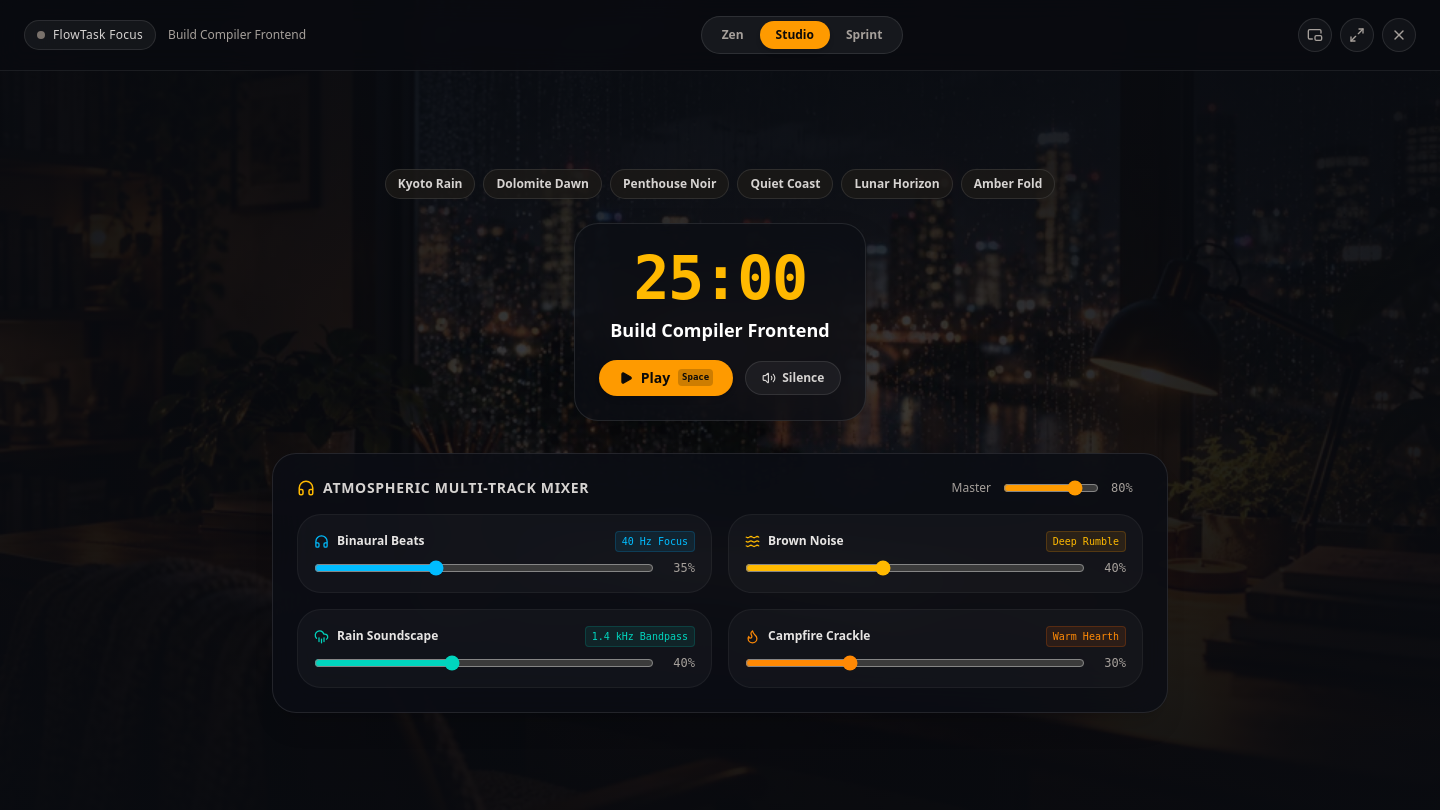
FocusEngineModal (Milestone 3 Comprehensive Suite) › 3. Lo-Fi Studio Audio Mixer › 3.2 toggles audio mute on silence button click
Click the button with aria-label "mute atmosphere": x=793, y=378 top-left (745, 360), bottom-right (841, 394)
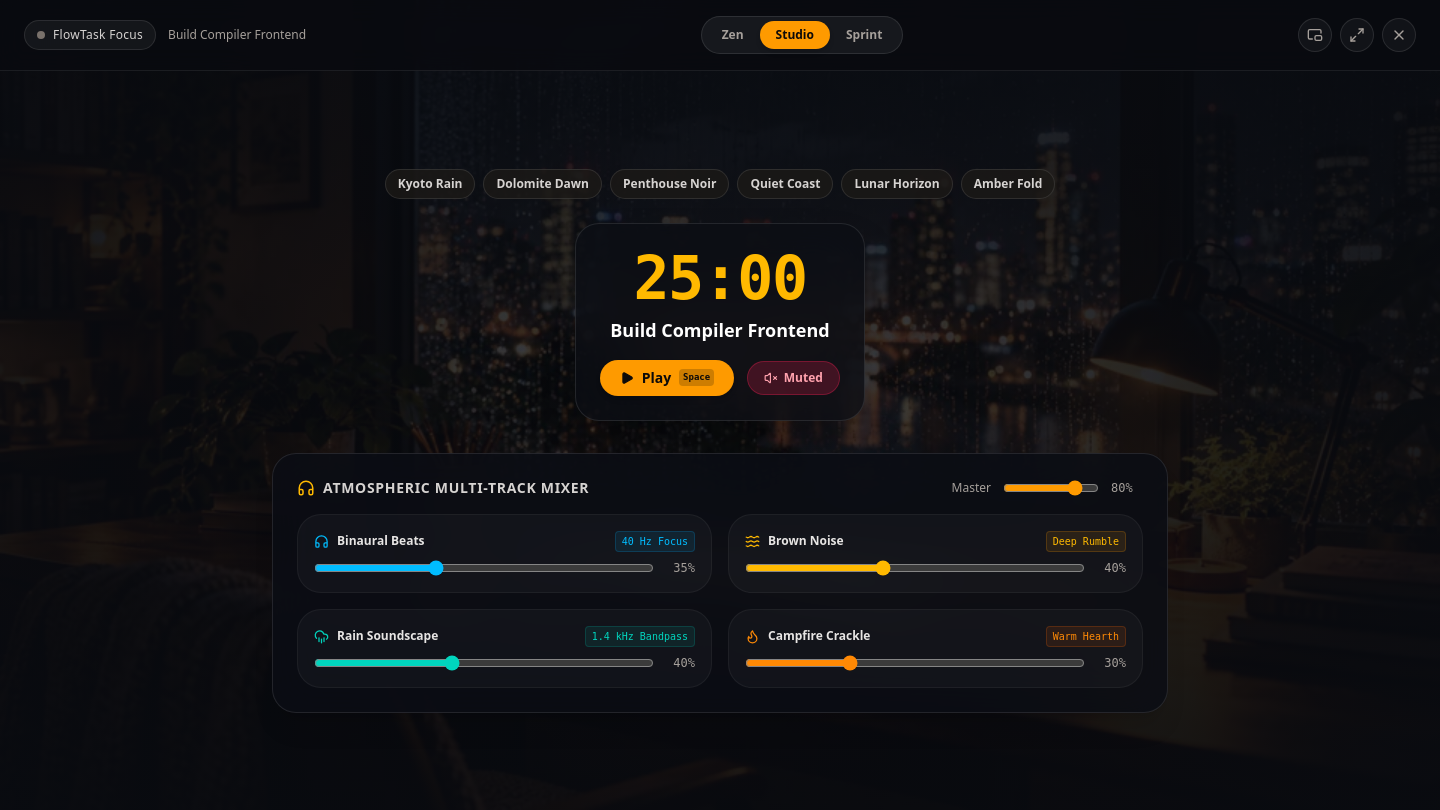
Check: the text "Muted" is shown, box top-left (784, 370), bottom-right (823, 386)
Click the button with aria-label "unmute atmosphere": x=793, y=378 top-left (747, 360), bottom-right (840, 394)
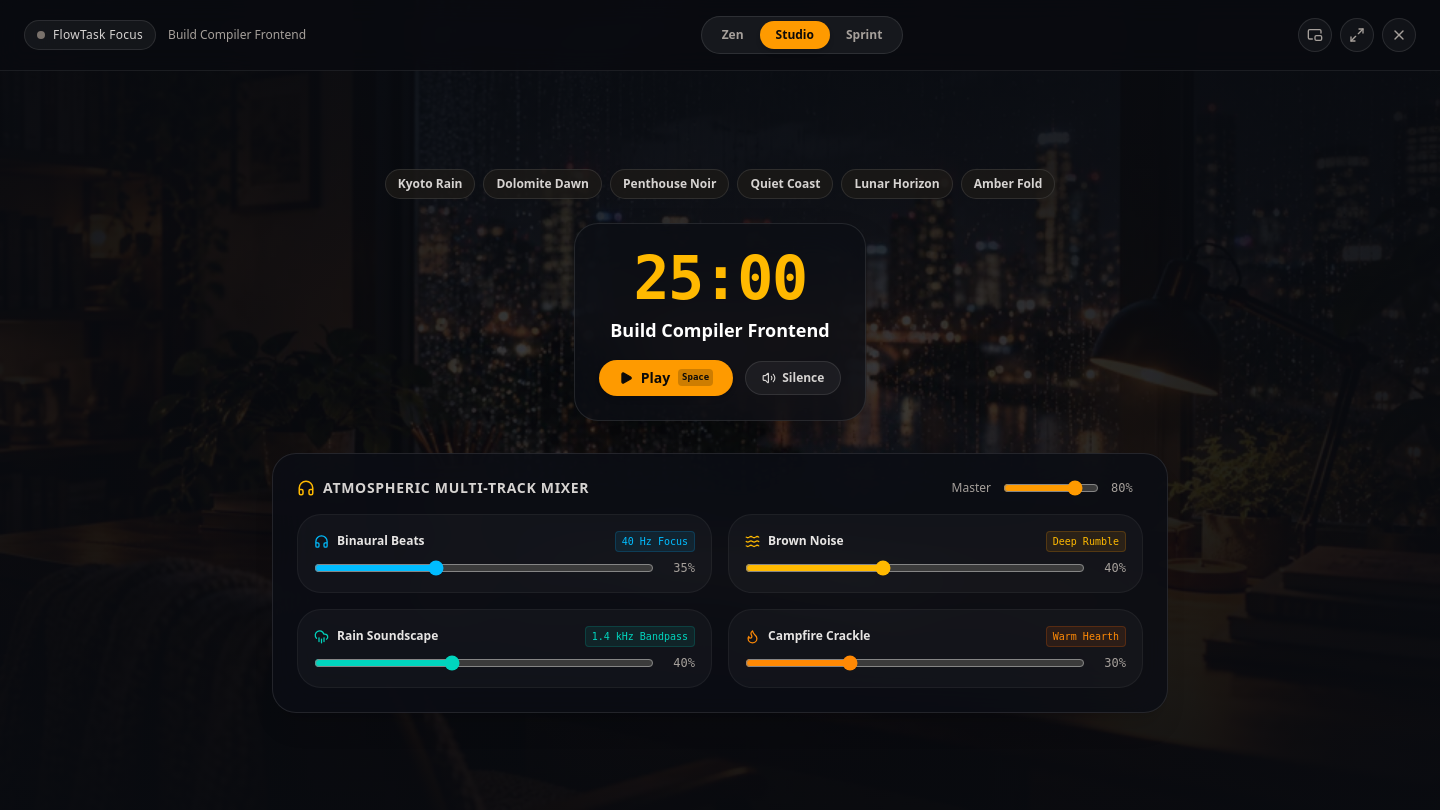
Check: the text "Silence" is shown, box top-left (782, 370), bottom-right (824, 386)
